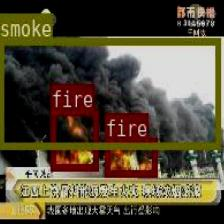fire: (50, 107, 98, 170), (104, 137, 156, 176)
smoke: (0, 36, 219, 147)
